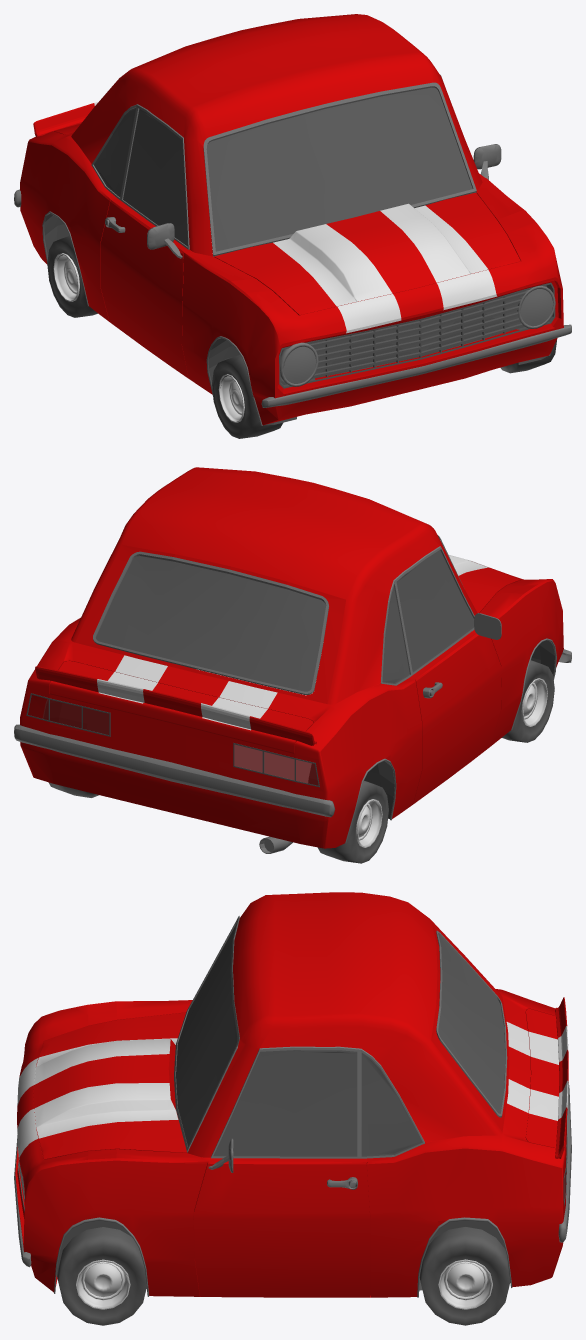
The model's file is car_cmr.fbx.
3 renders of one model, top to bottom at view 1: azimuth 30°, elevation 25°; view 2: azimuth 150°, elevation 25°; view 3: azimuth 270°, elevation 25°, orthographic. The views are drawn at different scales.
Parts seen in each view (by area): view 1: CAR_CMR:Box221; view 2: CAR_CMR:Box221; view 3: CAR_CMR:Box221.
Boxes of the visible parts, bbox=[...] form: CAR_CMR:Box221: bbox=[14, 14, 571, 438]; CAR_CMR:Box221: bbox=[14, 467, 571, 863]; CAR_CMR:Box221: bbox=[14, 892, 571, 1325].
Bounding box in the file's own units: 159 × 118 × 198.
